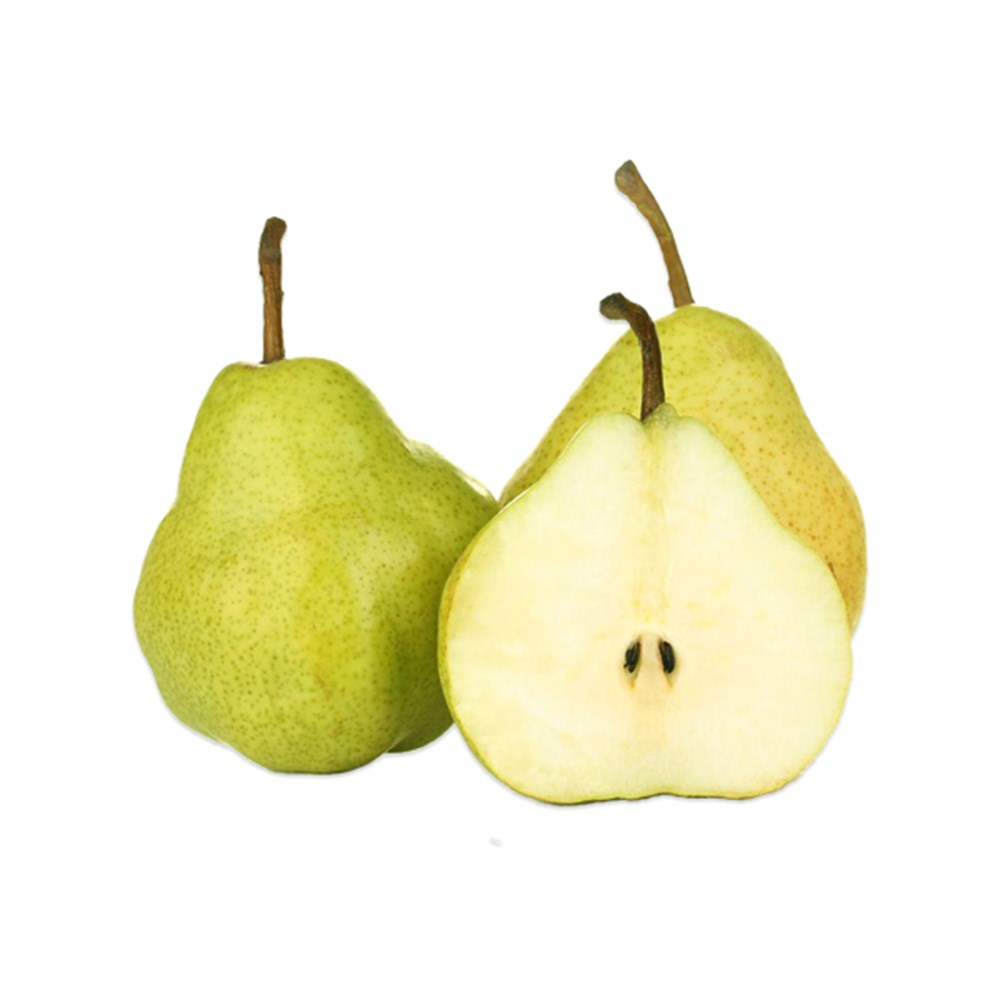pear: (427, 409, 865, 821), (149, 355, 492, 814)
